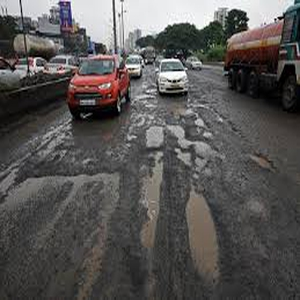pothole: (185, 185, 227, 297), (142, 122, 168, 246), (172, 123, 218, 172)
